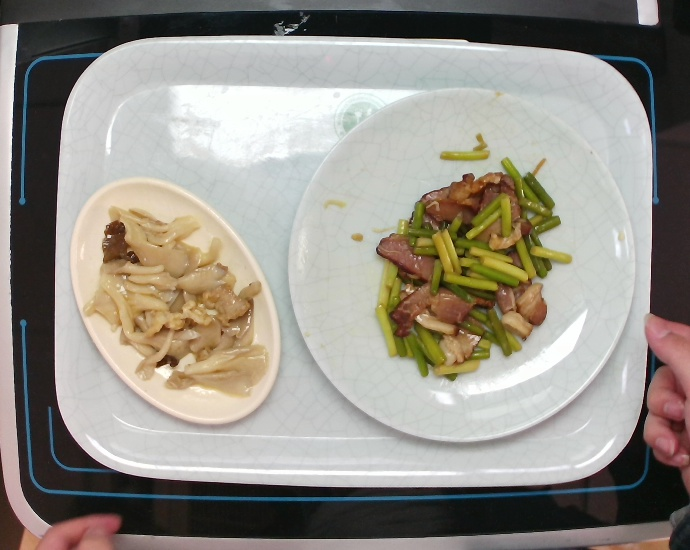JYsf-Da_Yuan_Pan: (285, 85, 637, 446)
JYsf-Tuo_Yuan_Wan: (67, 175, 283, 427)
